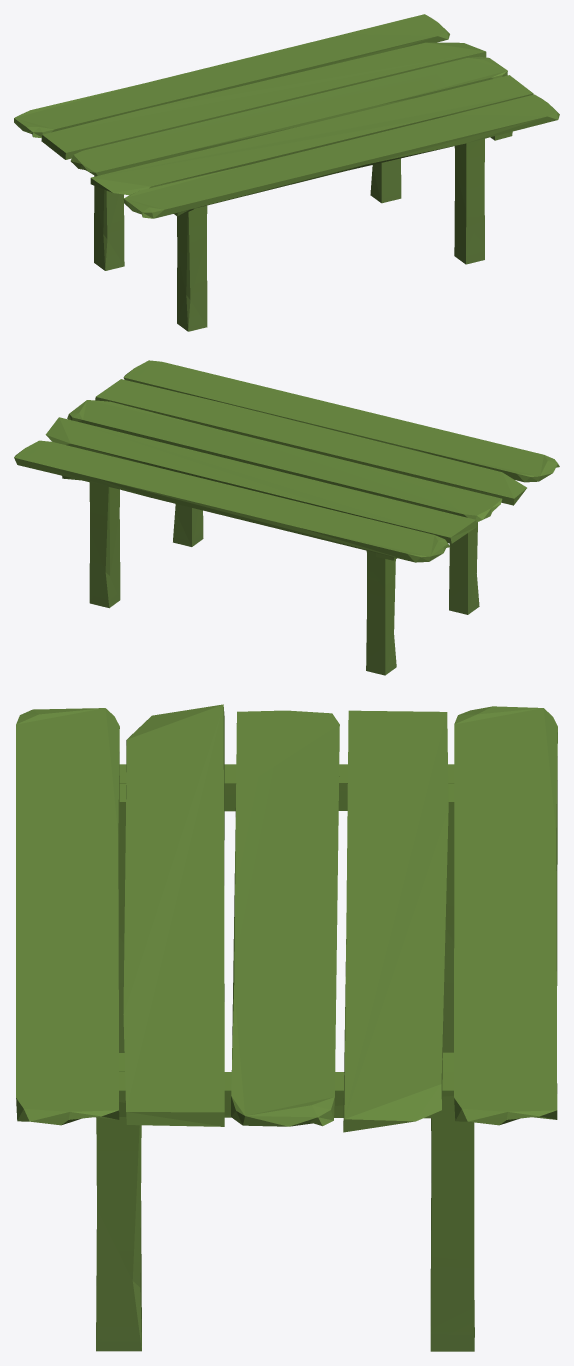
The model's file is Table_01.fbx.
3 renders of one model, top to bottom at view 1: azimuth 30°, elevation 25°; view 2: azimuth 150°, elevation 25°; view 3: azimuth 270°, elevation 25°, orthographic. The views are drawn at different scales.
Visible parts, largest first — view 1: Table_01; view 2: Table_01; view 3: Table_01.
Part boxes in pixels (x1=…): Table_01: x1=14, y1=14, x2=559, y2=331; Table_01: x1=14, y1=360, x2=559, y2=675; Table_01: x1=16, y1=704, x2=557, y2=1351.
Size of the model in its own units: 2.46 by 0.819 by 1.36.
